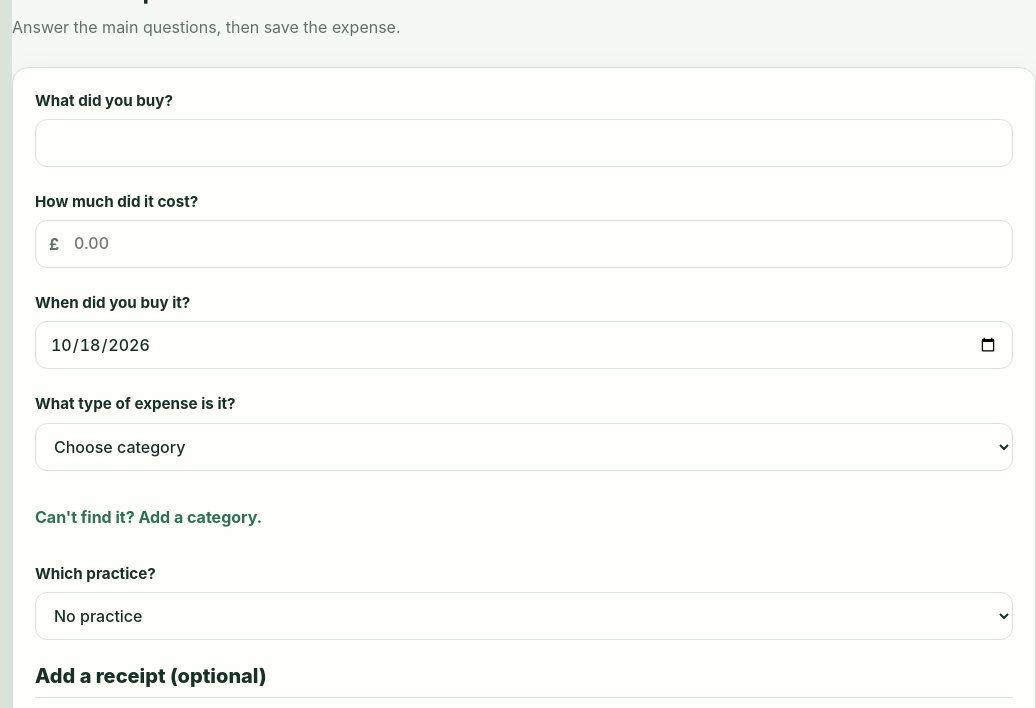
Test: rejects a non-finite amount before submitting
The width and height of the screenshot is (1036, 708).
Type "2026-05-01" into the date field labelled "When did you buy it?". click: [524, 345]
box: [35,321,1013,369]
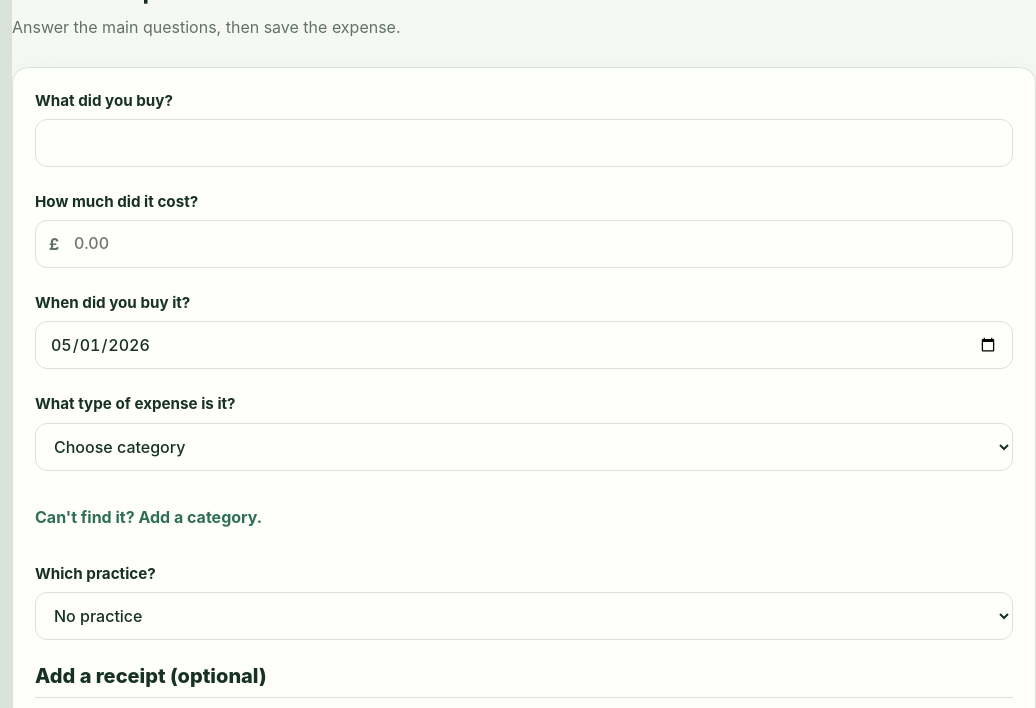
Type "999999999999999999999999999999999999999999999999999999" into the field labelled "How much did it cost?". click: [524, 244]
box: [35,220,1013,268]
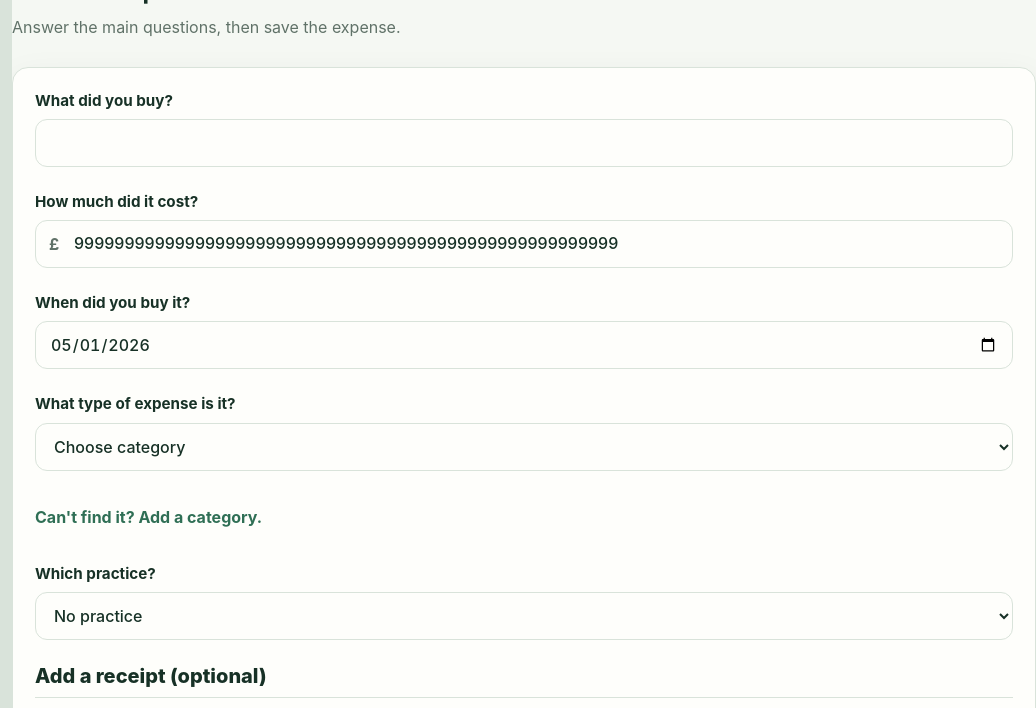
Select "Home office" in the dropdown labelled "What type of expense is it?". click: [524, 447]
box: [35,423,1013,471]
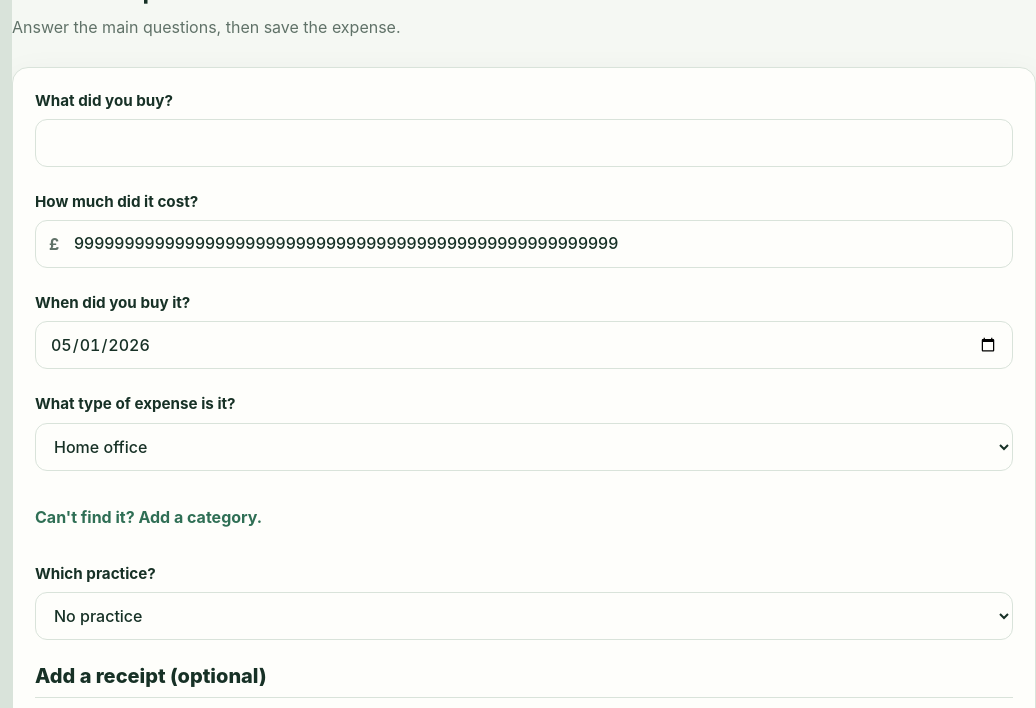
Type "Fictional desk" into the field labelled "What did you buy?". click: [524, 143]
box: [35,119,1013,167]
(page scrolled)
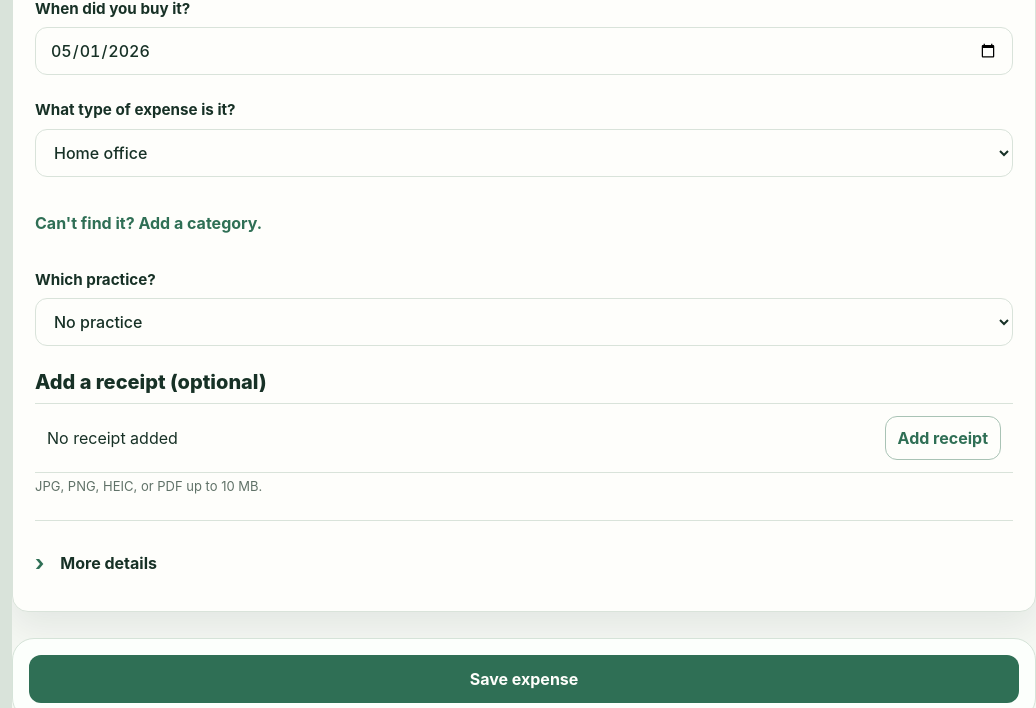
Click the button "Save expense". click: [524, 679]
box: [29,655,1019,703]
(page scrolled)
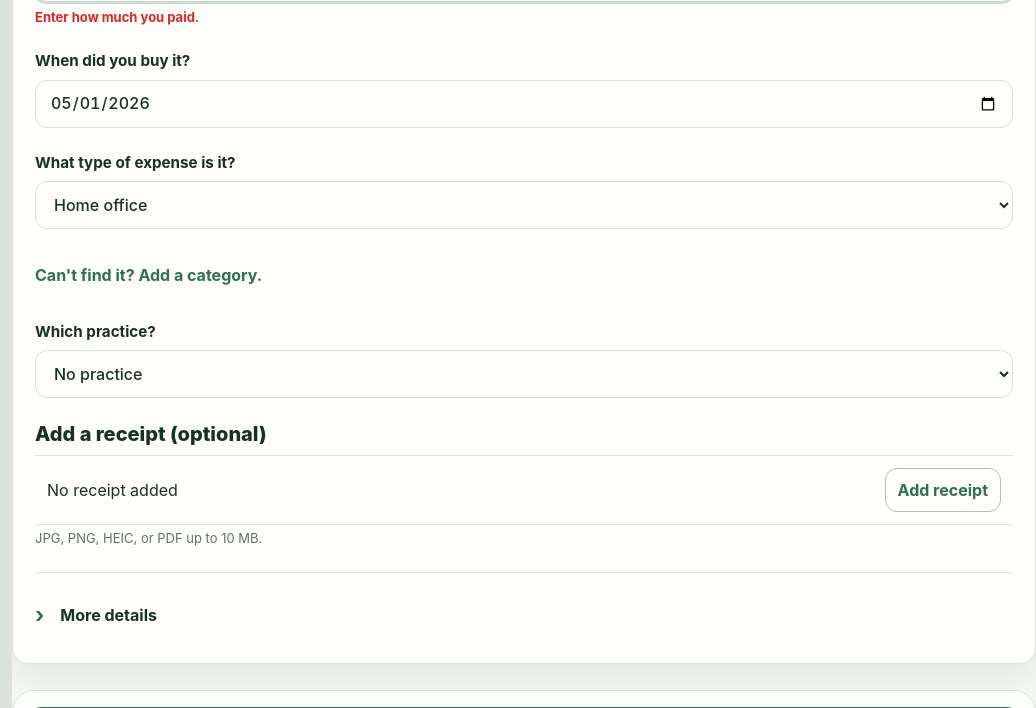
Check: the message reads "Enter how much you paid.", box [35,9,199,25]
